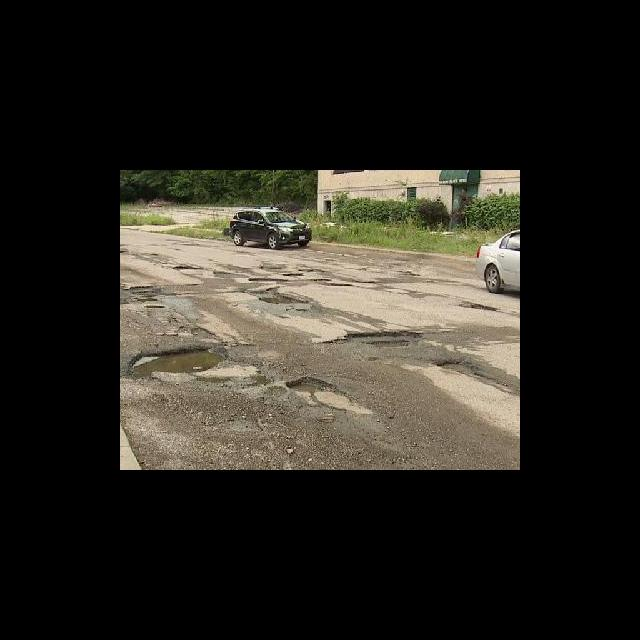retak_kulit_buaya: (284, 366, 333, 402)
